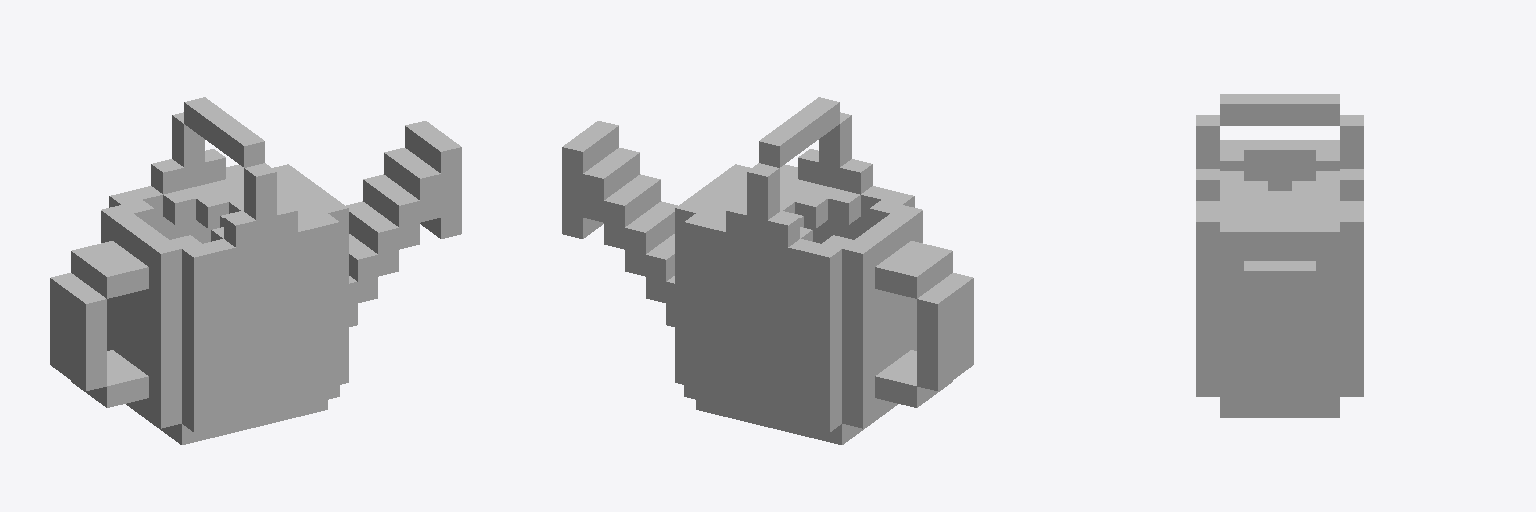
File: wateringCan.obj
The picture shows the model from 3 angles: view 1: azimuth 30°, elevation 25°; view 2: azimuth 150°, elevation 25°; view 3: azimuth 270°, elevation 25°; orthographic projection.
Parts seen in each view (by area): view 1: object 1; view 2: object 1; view 3: object 1.
Boxes of the visible parts, box(x1,y1,x2,y2) form: object 1: box(50, 97, 461, 444); object 1: box(562, 97, 973, 444); object 1: box(1196, 94, 1363, 417).
Bounding box in the file's own units: 1.8 × 1.3 × 0.7.